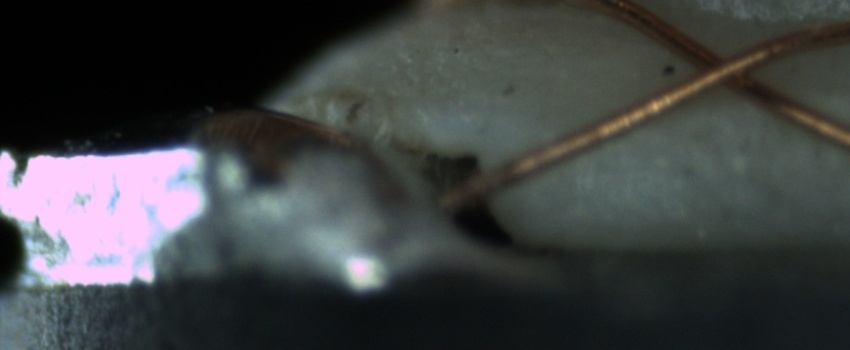CL: (669, 35, 776, 102)
